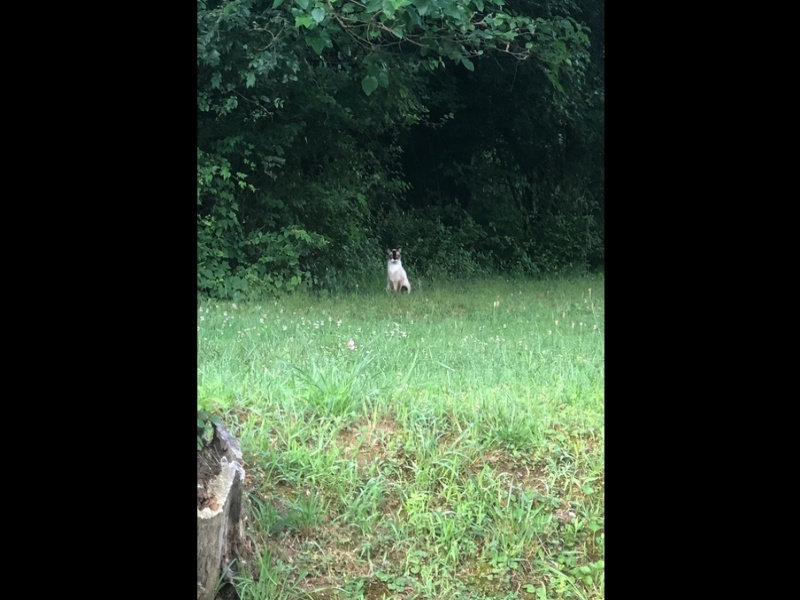cat: (384, 248, 411, 297)
